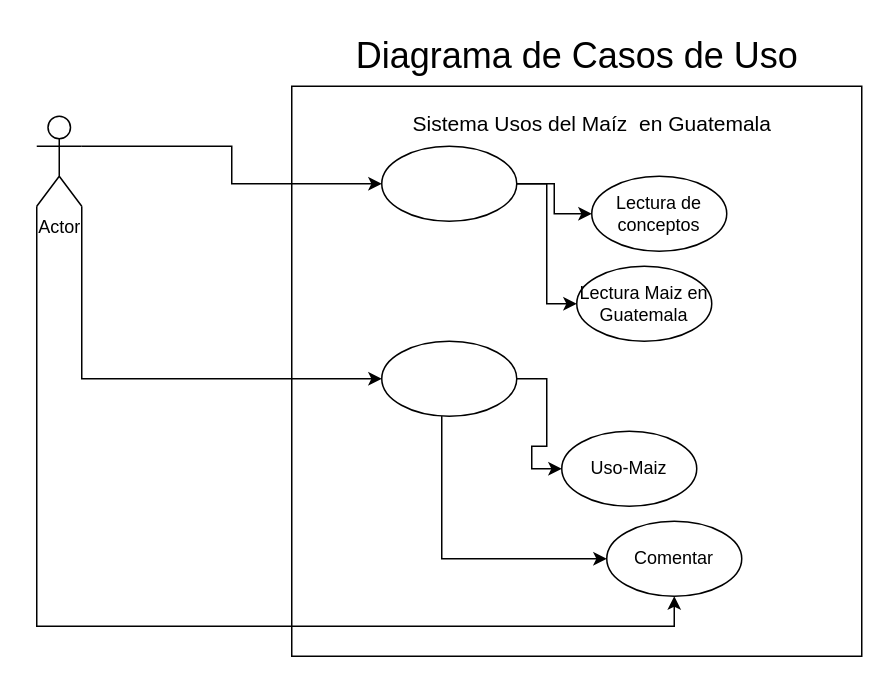
Image size: 888x683. Some labels were removed from this diagram. The shapes that lost their labels are listed below. From the top down, each one's centre as x and y in pixels, then its label:
At [448,183]: "Lectura General".
At [448,378]: "Categoria-Usos".
